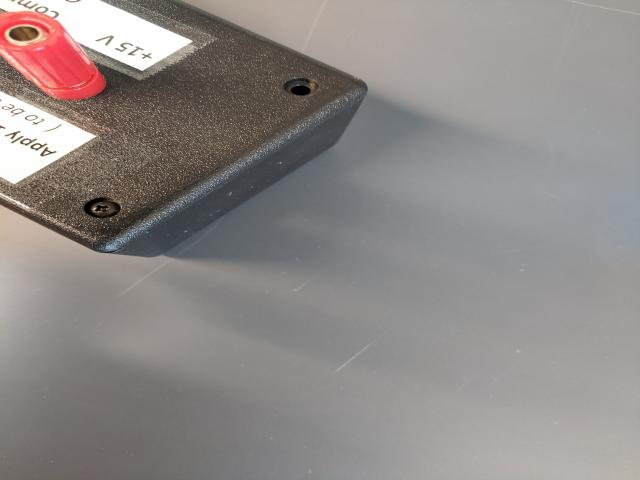CRS: (88, 200, 117, 216)
